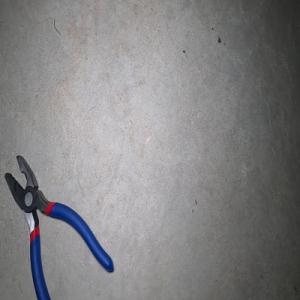Pliers: (4, 155, 114, 300)
